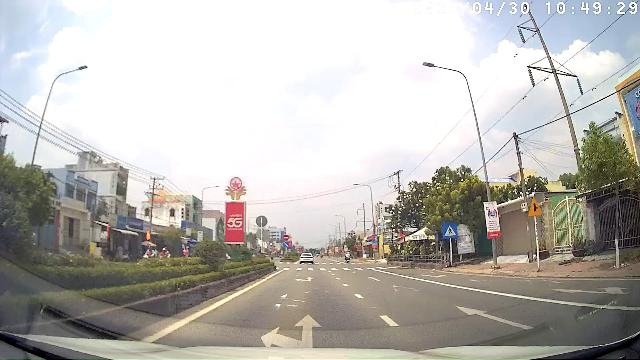102-cam-di-nguoc-chieu: (283, 235, 289, 241)
302a-huong-phai-di-vong-chuong-ngai-vat-1: (283, 241, 289, 248)
423a-duong-nguoi-di-bo-sang-ngang-1: (443, 222, 457, 238)
